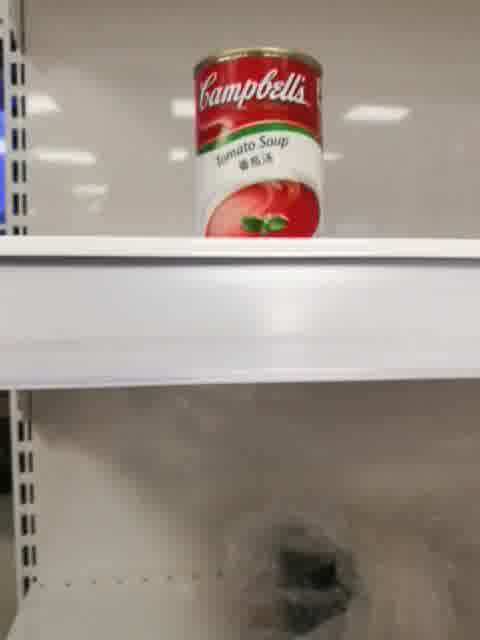tomatosoup: (193, 47, 326, 238)
